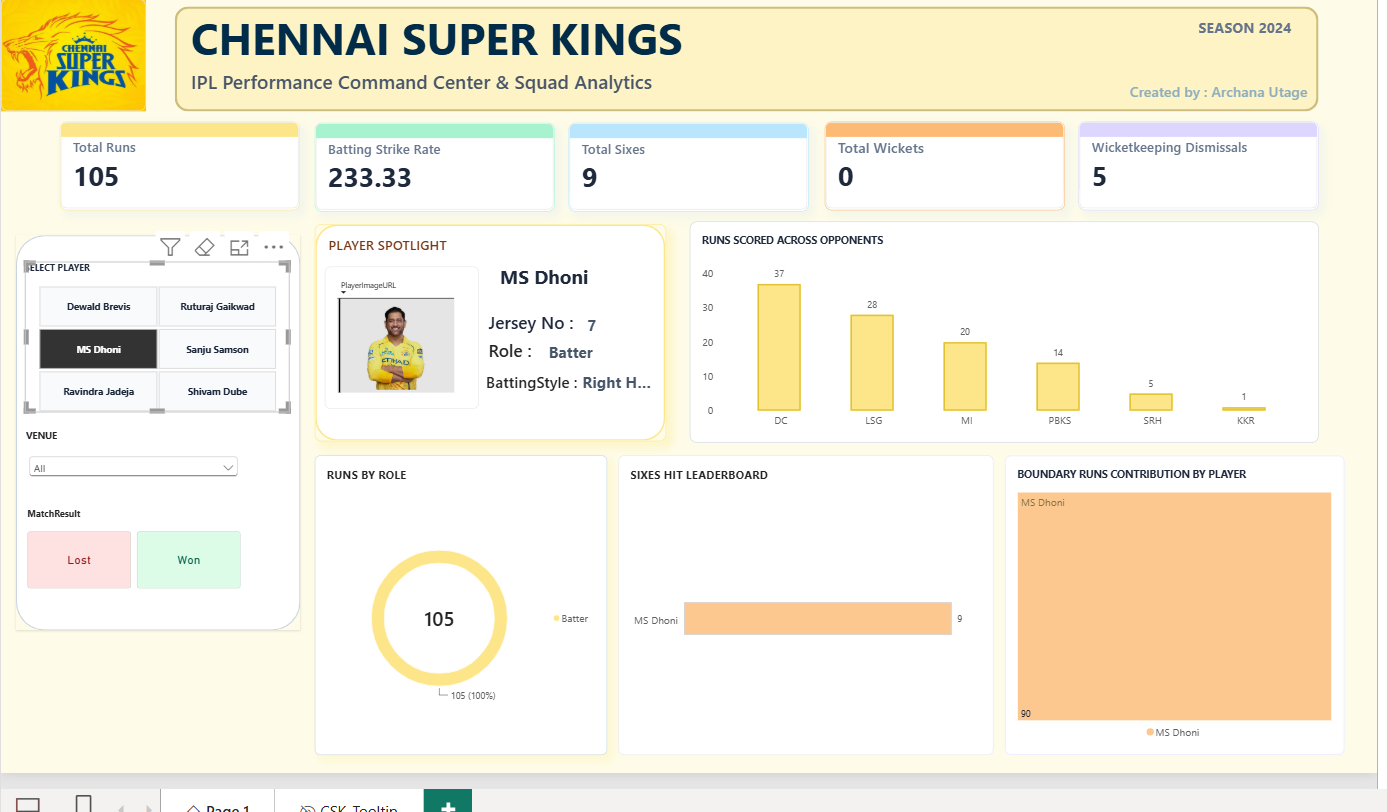

The page's visual inventory and layout, read from the dashboard file:
{"tool":"powerbi","page":{"name":"Page 1","canvas":[1920,1080],"ordinal":0},"visuals":[{"type":"shape","box":[242.4,10.5,1595.9,146.5],"z":0},{"type":"cardVisual","fields":{"Data":["Fact_Performance.Total Runs"]},"box":[81.3,171.1,335.4,123.6],"z":1000},{"type":"cardVisual","fields":{"Data":["Fact_Performance.Batting Strike Rate"]},"box":[437,172.8,335.4,123.6],"z":2000},{"type":"cardVisual","fields":{"Data":["Fact_Performance.Total Sixes"]},"box":[792.7,172.8,335.4,123.6],"z":3000},{"type":"cardVisual","fields":{"Data":["Fact_Performance.Total Wickets"]},"box":[1150,171.1,335.4,123.6],"z":4000},{"type":"cardVisual","fields":{"Data":["Fact_Performance.Wicketkeeping Dismissals"]},"box":[1504,171.1,335.4,123.6],"z":5000},{"type":"shape","box":[437.8,314,490.1,303.5],"z":6000},{"type":"textbox","title":"PLAYER SPOTLIGHT","box":[457.3,330.3,335.4,32.2],"z":7000},{"type":"tableEx","fields":{"Values":["Dim_Player.PlayerImageURL"]},"box":[451.7,373.3,215.1,198.2],"z":8000},{"type":"cardVisual","fields":{"Data":["Min(Dim_Player.PlayerName)"]},"box":[680.2,347.1,244.2,80.2],"z":9000},{"type":"textbox","box":[680.2,434.3,134.3,36.6],"z":10000},{"type":"cardVisual","fields":{"Data":["Dim_Player.Selected Jersey"]},"box":[802.3,429.1,86.4,49.1],"z":11000},{"type":"cardVisual","fields":{"Data":["Min(Dim_Player.Role)"]},"box":[748.3,474.4,194.8,37.3],"z":12000},{"type":"textbox","title":"Role : ","box":[680.2,474.4,76.7,38.4],"z":13000},{"type":"textbox","title":"BattingStyle :","box":[676.7,519.8,141.3,33.1],"z":14000},{"type":"cardVisual","fields":{"Data":["Min(Dim_Player.BattingStyle)"]},"box":[795.4,516.3,132.6,36.6],"z":15000},{"type":"clusteredColumnChart","title":"RUNS SCORED ACROSS OPPONENTS","fields":{"Category":["Dim_Match.Opponent"],"Y":["Fact_Performance.Total Runs"]},"box":[961,310.5,877.3,308.7],"z":17000},{"type":"donutChart","title":"RUNS BY ROLE","fields":{"Category":["Dim_Player.Role"],"Y":["Fact_Performance.Total Runs"]},"box":[437.8,636.6,408.1,418.6],"z":18000},{"type":"clusteredBarChart","title":"SIXES HIT LEADERBOARD","fields":{"Category":["Dim_Player.PlayerName"],"Y":["Fact_Performance.Total Sixes"]},"box":[861.6,636.6,523.3,418.6],"z":19000},{"type":"treemap","title":"BOUNDARY RUNS CONTRIBUTION BY PLAYER","fields":{"Group":["Dim_Player.PlayerName"],"Values":["Sum(Fact_Performance.BoundaryRuns)"]},"box":[1400.6,636.6,474.4,418.6],"z":20000},{"type":"shape","box":[20.4,329.7,396.8,551.5],"z":21000},{"type":"slicer","title":"SELECT PLAYER","fields":{"Values":["Dim_Player.PlayerName"]},"box":[33.6,366.2,369.8,211],"z":22000},{"type":"slicer","title":"VENUE","fields":{"Values":["Dim_Match.Venue"]},"box":[35,599.6,300,109.9],"z":23000},{"type":"advancedSlicerVisual","title":"MatchResult","fields":{"Values":["Dim_Match.MatchResult"]},"box":[36.5,709.1,299.1,113.8],"z":24000},{"type":"image","box":[0,0,202.3,157],"z":25000},{"type":"cardVisual","fields":{"Data":["Min(Dim_Player.PlayerName)"]},"box":[0,0,202.3,157],"z":26000},{"type":"textbox","title":"CHENNAI SUPER KINGS","box":[265.1,12.2,837.2,134.3],"z":26001},{"type":"textbox","title":"SEASON 2024","box":[1670.9,26.2,137.8,29.7],"z":26002},{"type":"textbox","title":"Created by : Archana Utage","box":[1575,115.1,263.4,41.9],"z":26003},{"type":"textbox","title":"Hover over logo for match highlights video","box":[8.7,157,184.9,47.1],"z":26004}]}

Visuals, with their boxes on the page's 1920x1080 design canvas (x1, y1, x2, y2). These are canvas units, not pixel positions in the 1387x812 screenshot, which may show the page scaled, cropped or inside an application window:
shape: (242, 10, 1838, 157)
cardVisual - Fact_Performance.Total Runs: (81, 171, 417, 295)
cardVisual - Fact_Performance.Batting Strike Rate: (437, 173, 772, 296)
cardVisual - Fact_Performance.Total Sixes: (793, 173, 1128, 296)
cardVisual - Fact_Performance.Total Wickets: (1150, 171, 1485, 295)
cardVisual - Fact_Performance.Wicketkeeping Dismissals: (1504, 171, 1839, 295)
shape: (438, 314, 928, 618)
"PLAYER SPOTLIGHT" textbox: (457, 330, 793, 362)
tableEx - Dim_Player.PlayerImageURL: (452, 373, 667, 572)
cardVisual - Min(Dim_Player.PlayerName): (680, 347, 924, 427)
textbox: (680, 434, 814, 471)
cardVisual - Dim_Player.Selected Jersey: (802, 429, 889, 478)
cardVisual - Min(Dim_Player.Role): (748, 474, 943, 512)
"Role : " textbox: (680, 474, 757, 513)
"BattingStyle :" textbox: (677, 520, 818, 553)
cardVisual - Min(Dim_Player.BattingStyle): (795, 516, 928, 553)
"RUNS SCORED ACROSS OPPONENTS" clusteredColumnChart: (961, 310, 1838, 619)
"RUNS BY ROLE" donutChart: (438, 637, 846, 1055)
"SIXES HIT LEADERBOARD" clusteredBarChart: (862, 637, 1385, 1055)
"BOUNDARY RUNS CONTRIBUTION BY PLAYER" treemap: (1401, 637, 1875, 1055)
shape: (20, 330, 417, 881)
"SELECT PLAYER" slicer: (34, 366, 403, 577)
"VENUE" slicer: (35, 600, 335, 710)
"MatchResult" advancedSlicerVisual: (36, 709, 336, 823)
image: (0, 0, 202, 157)
cardVisual - Min(Dim_Player.PlayerName): (0, 0, 202, 157)
"CHENNAI SUPER KINGS" textbox: (265, 12, 1102, 146)
"SEASON 2024" textbox: (1671, 26, 1809, 56)
"Created by : Archana Utage" textbox: (1575, 115, 1838, 157)
"Hover over logo for match highlights video" textbox: (9, 157, 194, 204)
